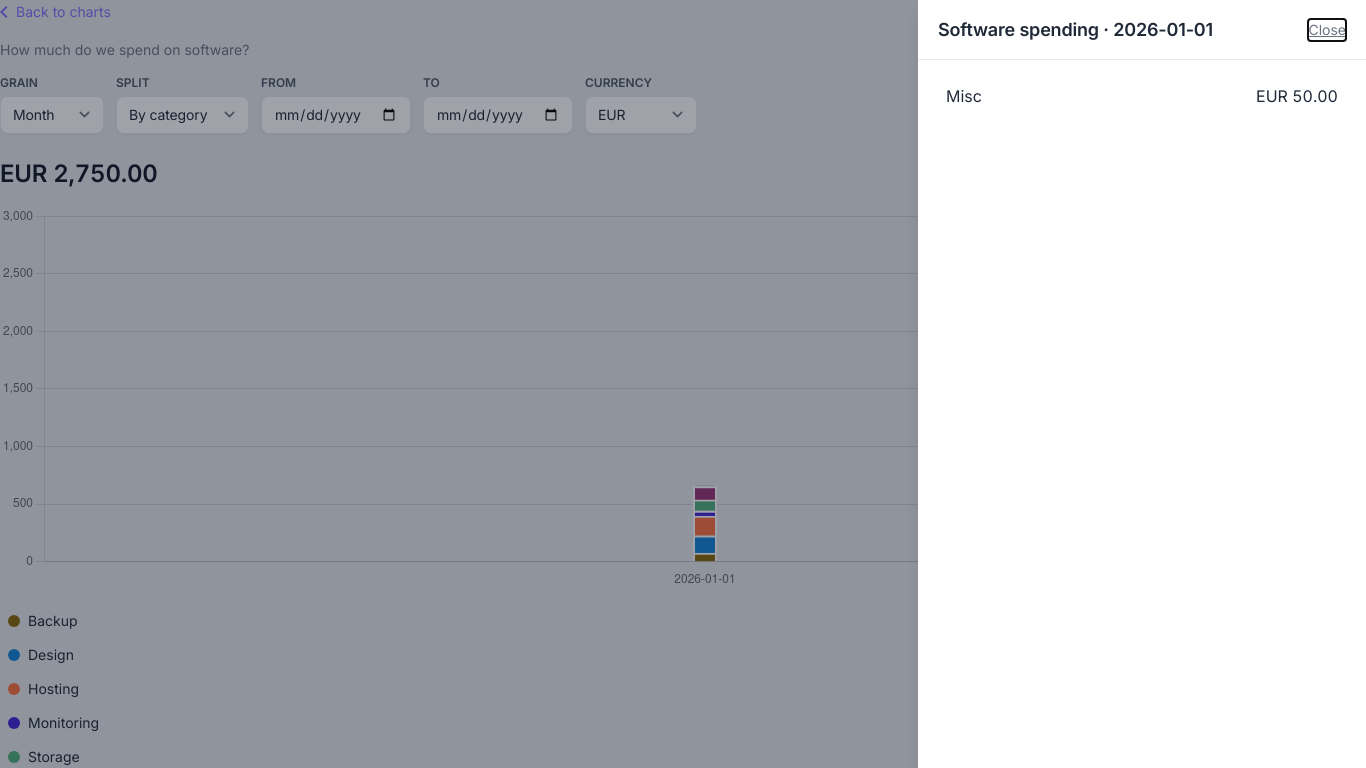
Test: SpendingWorkspaceView › picks a folded member from the Other body and opens its own cell drill
What coordinates should you click on to do the following:
click the button with test id "drill-other-row"
I would click on:
 (964, 96)
Its box is [938,80,1346,112].
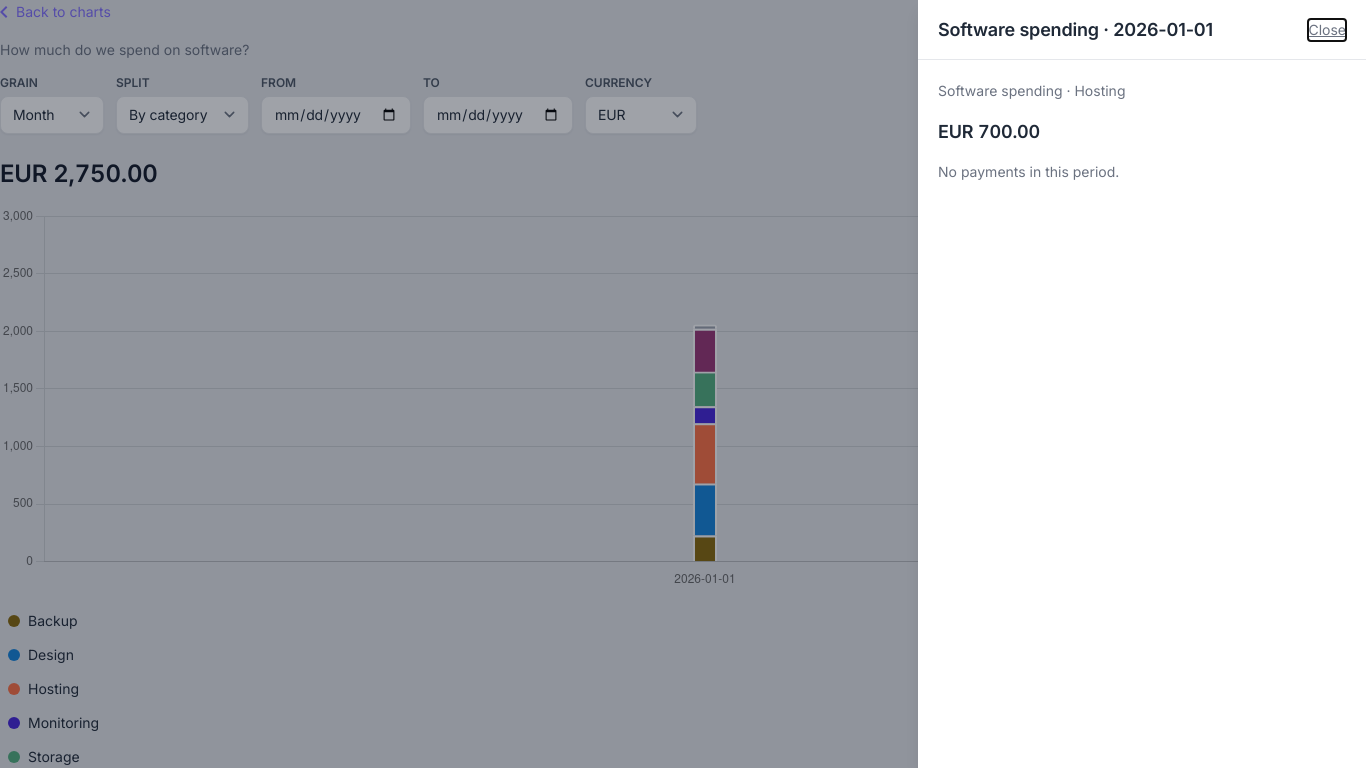
Now the element with test id "drill-cell-body" is shown, box [938,82,1126,180]
